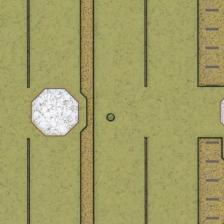COATING BAD: (103, 110, 119, 126)
